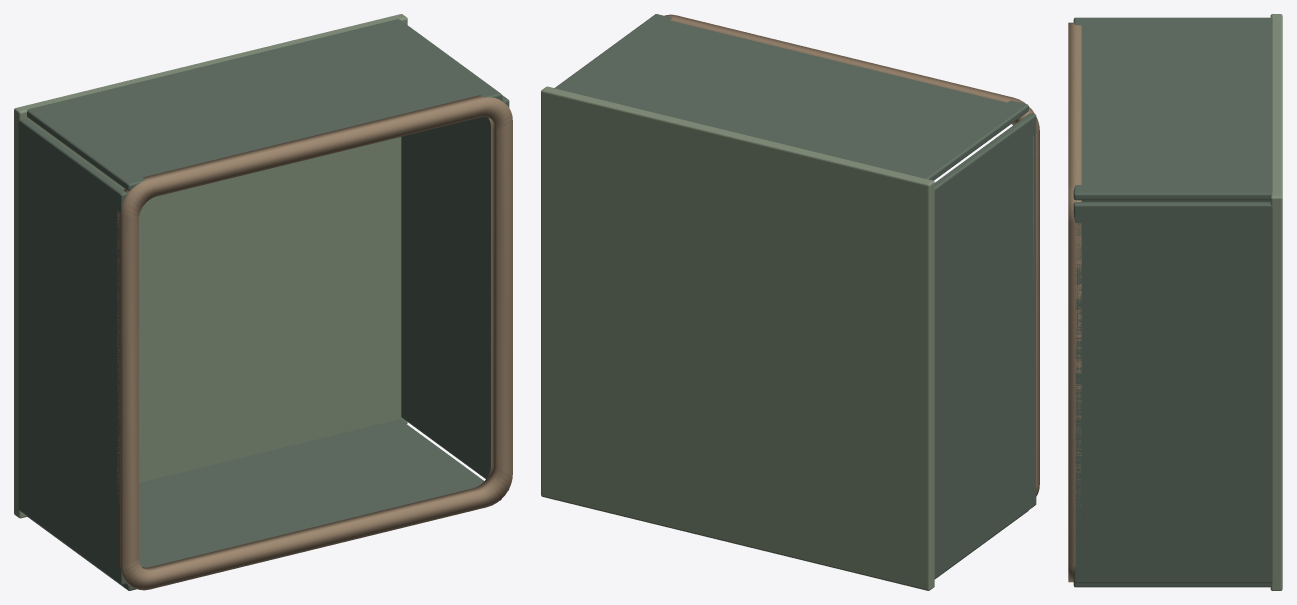
Rendered from discovery_window_frame.glb.
3 views of the same model, side by side, from view 1: azimuth 30°, elevation 25°; view 2: azimuth 150°, elevation 25°; view 3: azimuth 270°, elevation 25° (orthographic). The views are drawn at different scales.
Visible parts, largest first — view 1: Recess_Back, Recess_Left, Recess_Top, Frame_Rim, Recess_Right, Recess_Base; view 2: Recess_Back, Recess_Left, Recess_Top, Frame_Rim; view 3: Recess_Right, Recess_Top, Frame_Rim, Recess_Back, Recess_Base, Recess_Left.
Part boxes in pixels (x1=…): Recess_Back: x1=14, y1=14, x2=407, y2=518; Recess_Left: x1=18, y1=119, x2=127, y2=584; Recess_Top: x1=27, y1=19, x2=501, y2=191; Frame_Rim: x1=117, y1=95, x2=512, y2=590; Recess_Right: x1=401, y1=95, x2=509, y2=490; Recess_Base: x1=27, y1=419, x2=501, y2=590; Recess_Back: x1=541, y1=86, x2=934, y2=590; Recess_Left: x1=934, y1=113, x2=1036, y2=578; Recess_Top: x1=554, y1=14, x2=1028, y2=180; Frame_Rim: x1=664, y1=14, x2=1039, y2=496; Recess_Right: x1=1073, y1=202, x2=1272, y2=583; Recess_Top: x1=1073, y1=17, x2=1272, y2=200; Frame_Rim: x1=1068, y1=22, x2=1081, y2=582; Recess_Back: x1=1270, y1=14, x2=1282, y2=590; Recess_Base: x1=1073, y1=582, x2=1270, y2=587; Recess_Left: x1=1081, y1=200, x2=1270, y2=201.
Bounding box in the file's own units: 0.65 × 0.65 × 0.32.
